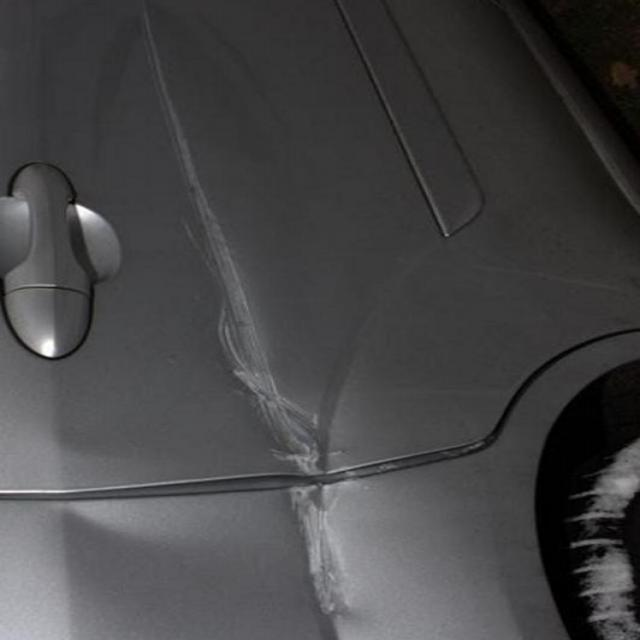scratch: (192, 282, 418, 640)
